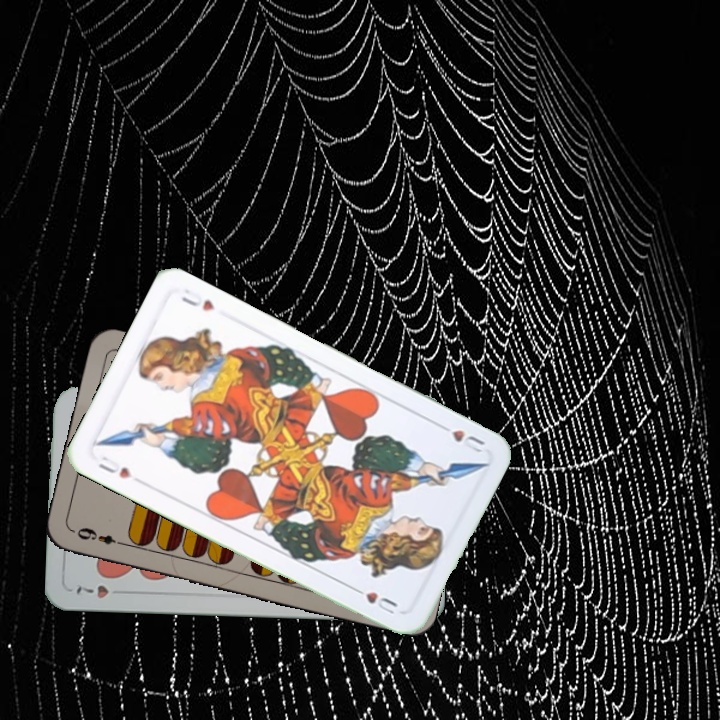E9: (72, 523, 128, 549)
H7: (72, 580, 128, 601)
HU: (433, 419, 488, 455), (93, 452, 135, 482)
